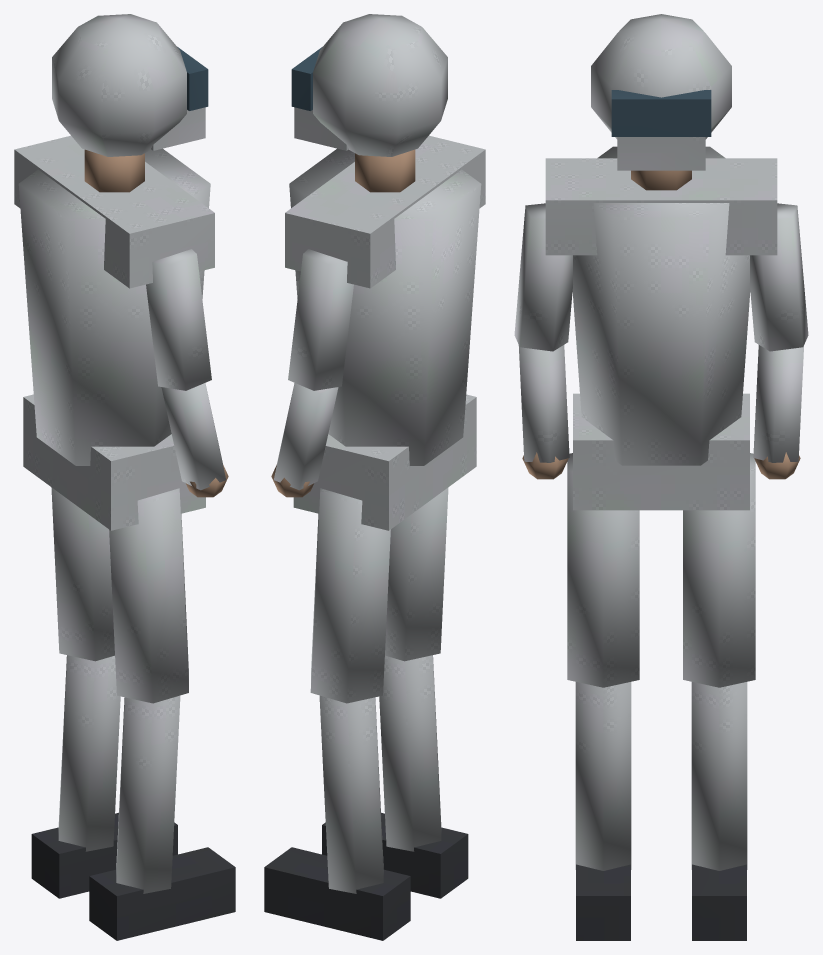
The model's file is crew-mechanic-standing_mobile.glb.
The picture shows the model from 3 angles, left to right: view 1: azimuth 30°, elevation 25°; view 2: azimuth 150°, elevation 25°; view 3: azimuth 270°, elevation 25°; orthographic projection.
Parts seen in each view (by area): view 1: clothing, rubber, skin, glazing; view 2: clothing, rubber, skin, glazing; view 3: clothing, rubber, glazing, skin.
Part boxes in pixels (x1,y1,x2,y2): clothing: (14, 14, 225, 893); rubber: (31, 812, 235, 940); skin: (84, 149, 228, 497); glazing: (177, 47, 208, 110); clothing: (274, 14, 485, 893); rubber: (264, 812, 468, 940); skin: (271, 149, 415, 497); glazing: (291, 47, 322, 110); clothing: (514, 14, 808, 870); rubber: (576, 864, 746, 940); glazing: (611, 90, 711, 136); skin: (522, 170, 800, 479).
Size of the model in its own units: 0.3166 by 1.77 by 0.5325.
Materials: 4 (2 with a texture image).
